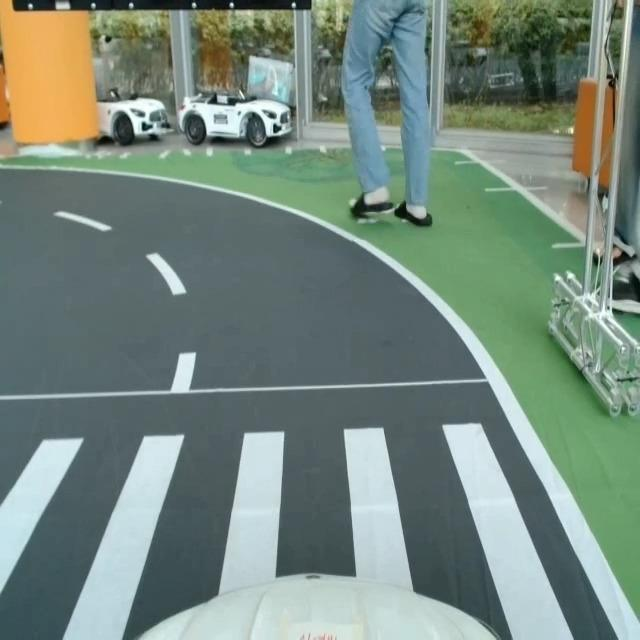traffic-light: (7, 0, 316, 15)
